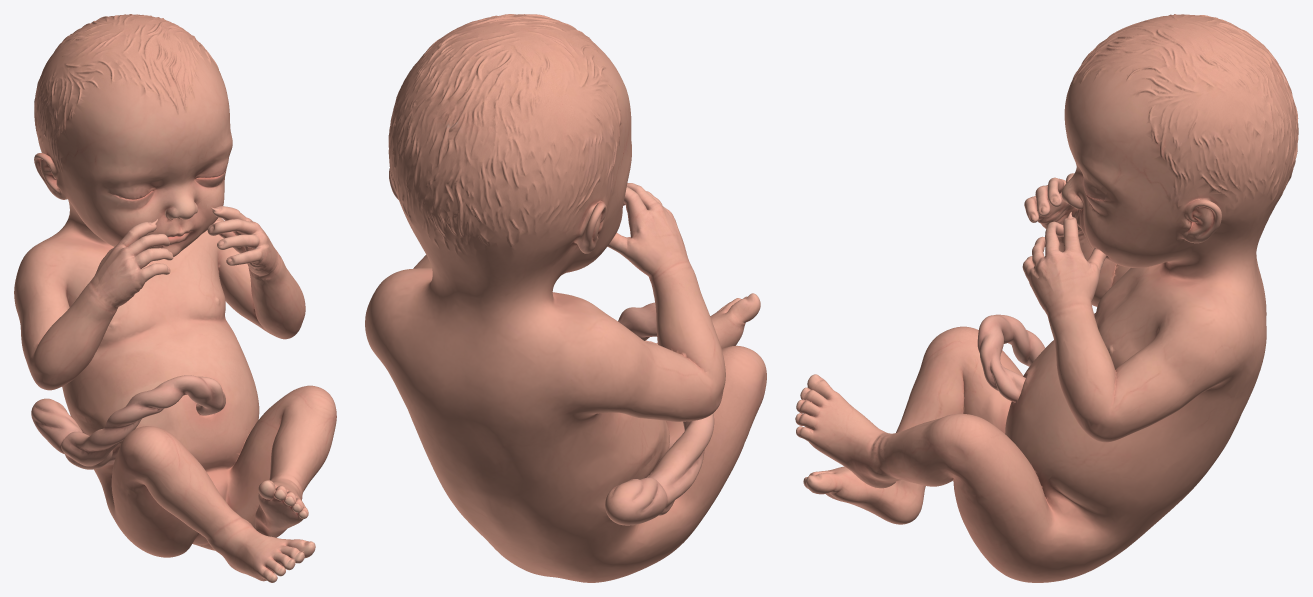
The model's file is semaine-18.glb.
3 views of the same model, side by side, from view 1: azimuth 30°, elevation 25°; view 2: azimuth 150°, elevation 25°; view 3: azimuth 270°, elevation 25° (orthographic). The views are drawn at different scales.
Bounding box in the file's own units: 1.1 × 1.9 × 1.61.
1 material, 1 textured.
